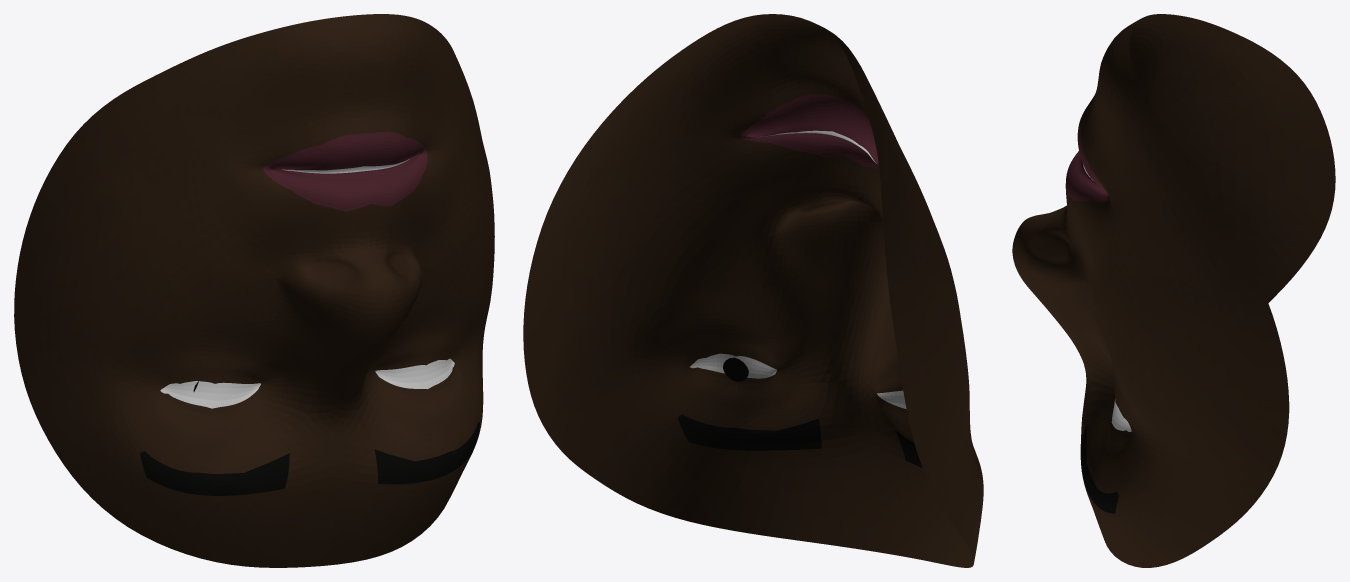
Rendered from VID-20250515-WA0006_f_00090.obj.
3 views of the same model, side by side, from view 1: azimuth 30°, elevation 25°; view 2: azimuth 150°, elevation 25°; view 3: azimuth 270°, elevation 25° (orthographic). The views are drawn at different scales.
Visible parts, largest first — view 1: face_mesh_subdivided; view 2: face_mesh_subdivided; view 3: face_mesh_subdivided.
Boxes of the visible parts, bbox=[...] form: face_mesh_subdivided: bbox=[14, 14, 494, 567]; face_mesh_subdivided: bbox=[523, 14, 983, 567]; face_mesh_subdivided: bbox=[1012, 14, 1335, 567].
Size of the model in its own units: 0.4498 by 0.5411 by 0.3168.
